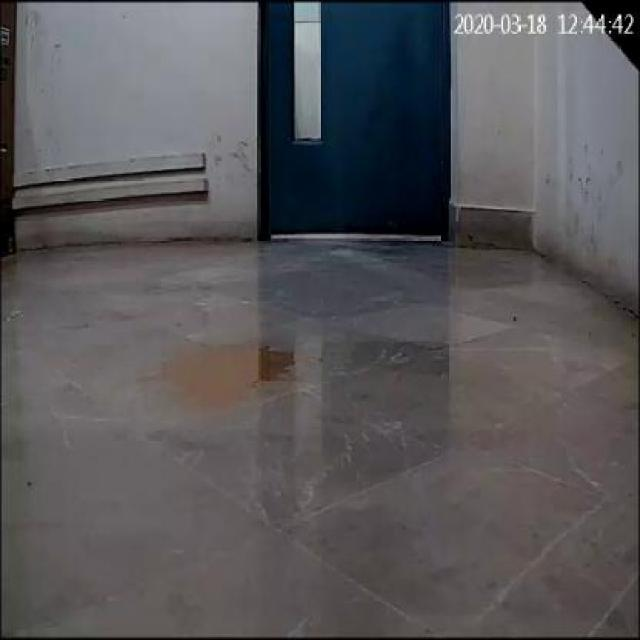spill: (152, 328, 308, 418)
